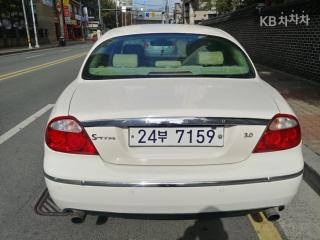1: (185, 129, 195, 145)
2: (138, 129, 147, 144)
4: (147, 129, 157, 144)
5: (195, 128, 207, 144)
7: (175, 129, 185, 145)
9: (206, 129, 216, 144)
plate: (123, 123, 227, 150)
부: (157, 129, 169, 144)
